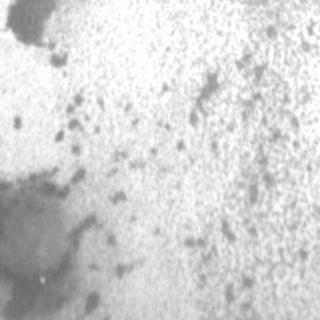patches: (0, 165, 92, 317), (5, 0, 51, 46)
pitted_surface: (80, 8, 314, 250)
